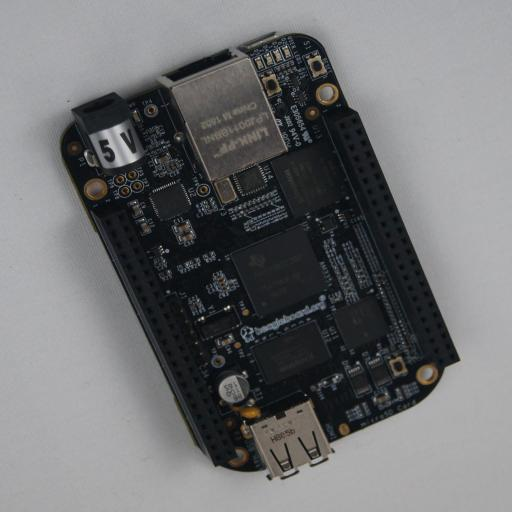Beaglebone Black: (59, 32, 460, 480)
